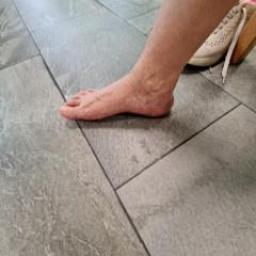Medial View -Right Foot-: (47, 42, 191, 144)
